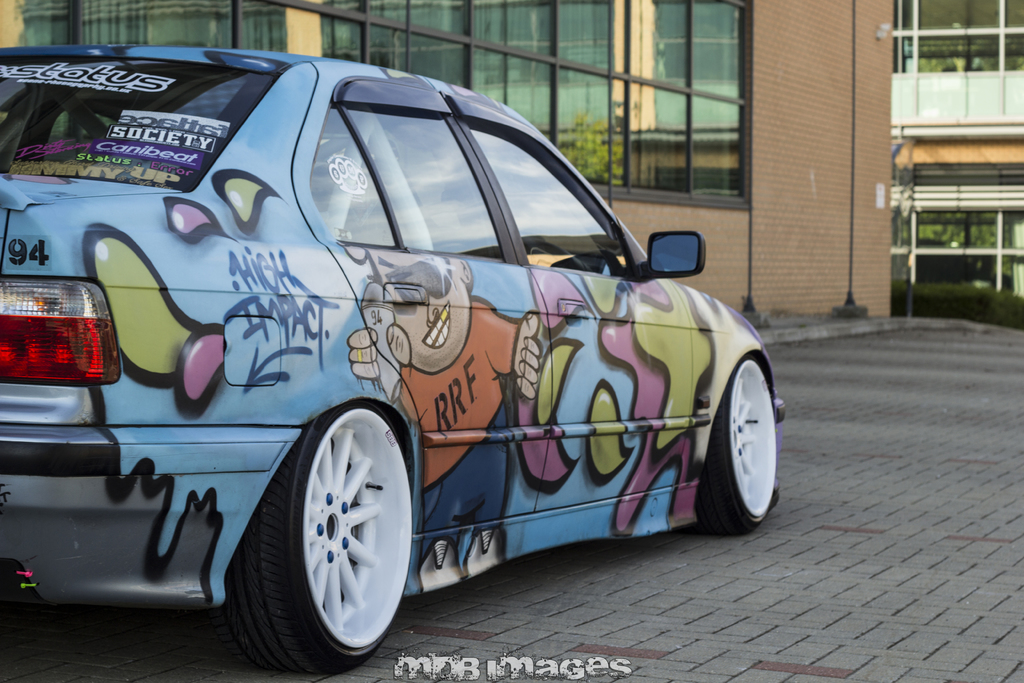cars: (0, 42, 790, 680)
